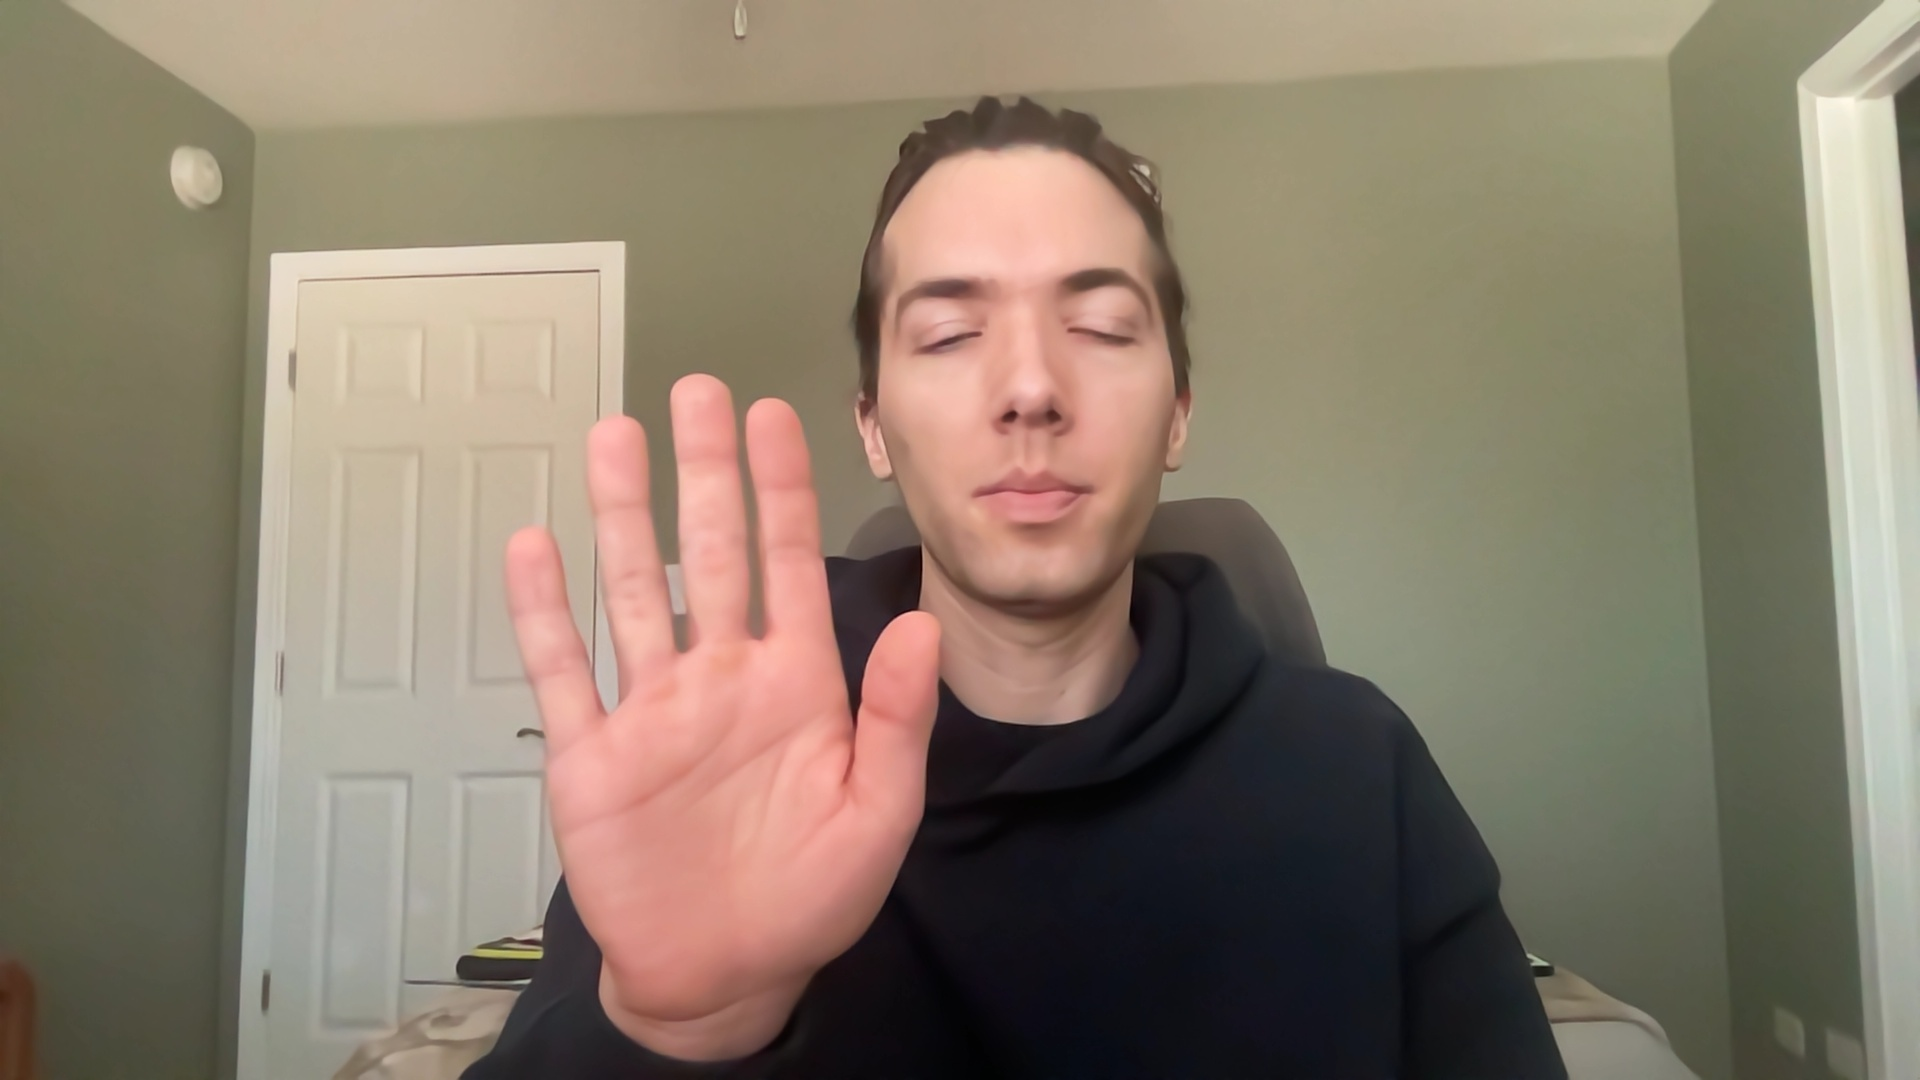Hello: (459, 356, 968, 1060)
